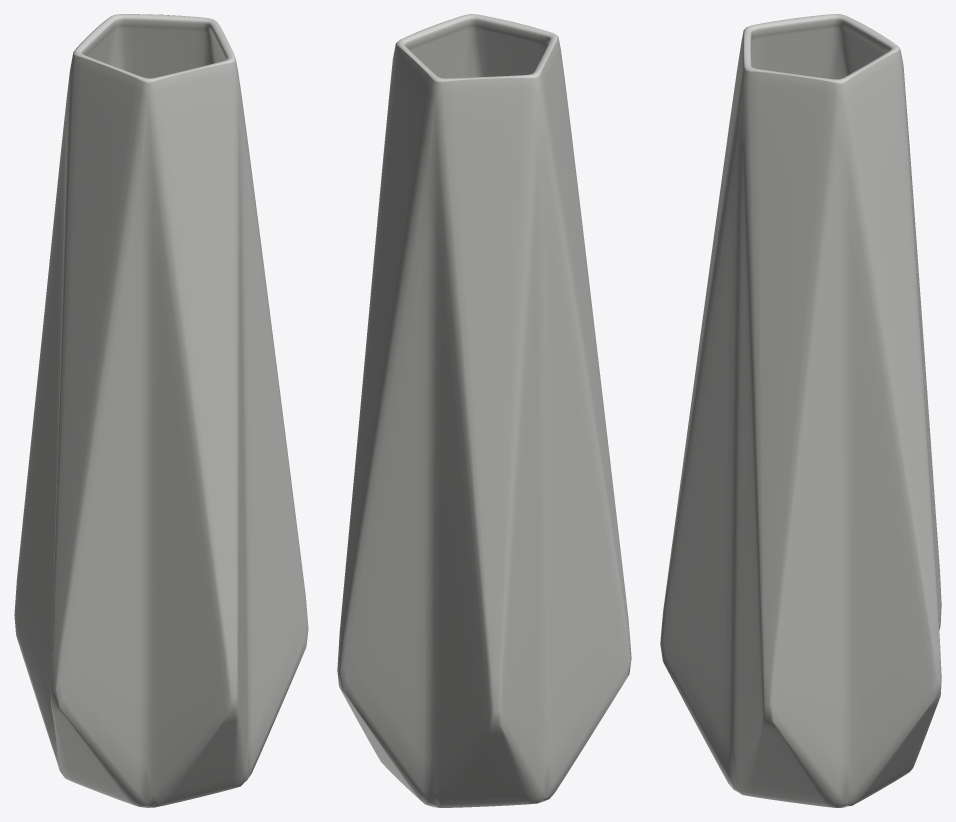
The model's file is B075HWK9QT.glb.
3 renders of one model, left to right at view 1: azimuth 30°, elevation 25°; view 2: azimuth 150°, elevation 25°; view 3: azimuth 270°, elevation 25°, orthographic.
Visible parts, largest first — view 1: RootNode; view 2: RootNode; view 3: RootNode.
Part boxes in pixels (x1,y1,x2,y2): RootNode: (14, 14, 308, 807); RootNode: (337, 14, 631, 807); RootNode: (660, 14, 941, 807).
Size of the model in its own units: 0.1216 by 0.3294 by 0.1159.
1 material, 1 textured.
